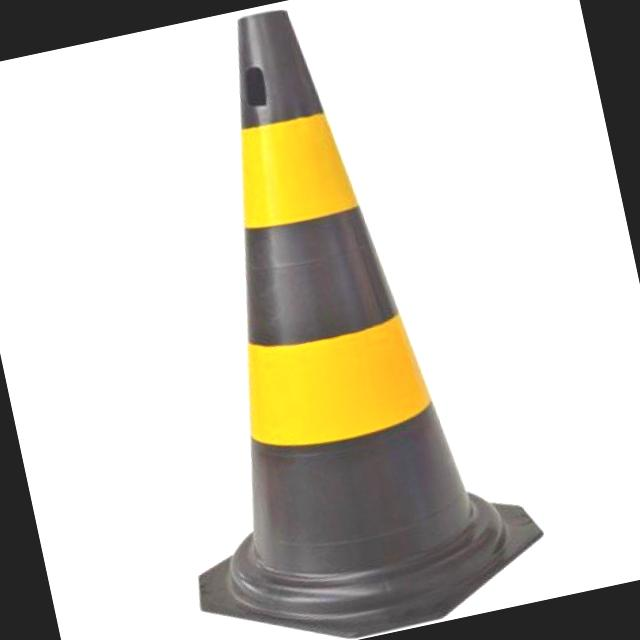cone: (96, 0, 562, 640)
